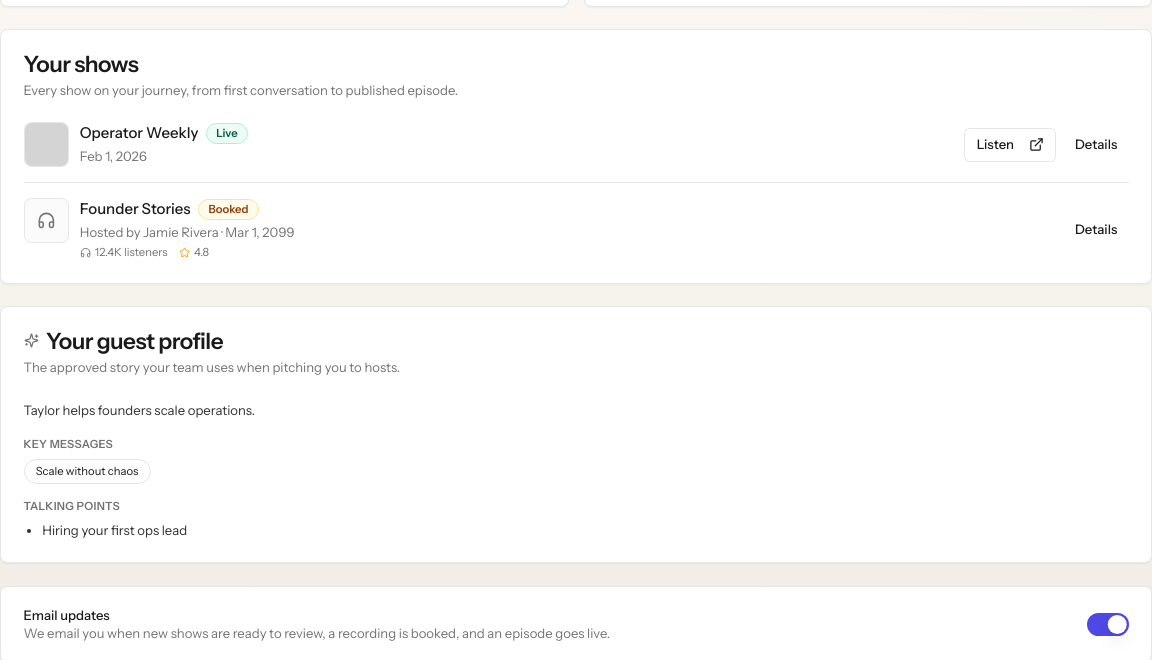
it: PortalDashboardMvp › says the page could not refresh instead of contradicting itself over stale data
(page scrolled)
Click the switch named "Email updates".
click(1108, 624)  # box [1087,613,1129,636]
(page scrolled)
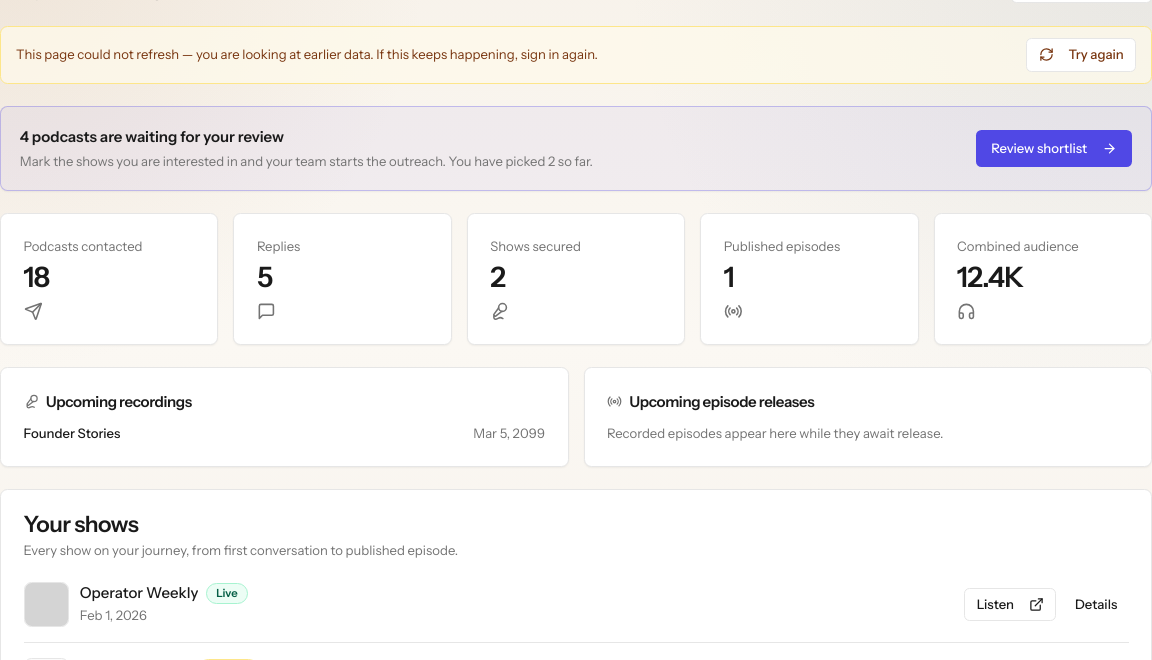
Expected: the text "Combined audience" is shown, [957,238,1079,254]
Expected: the text "could not refresh — you are looking at earlier data" is shown, [16,46,598,62]
